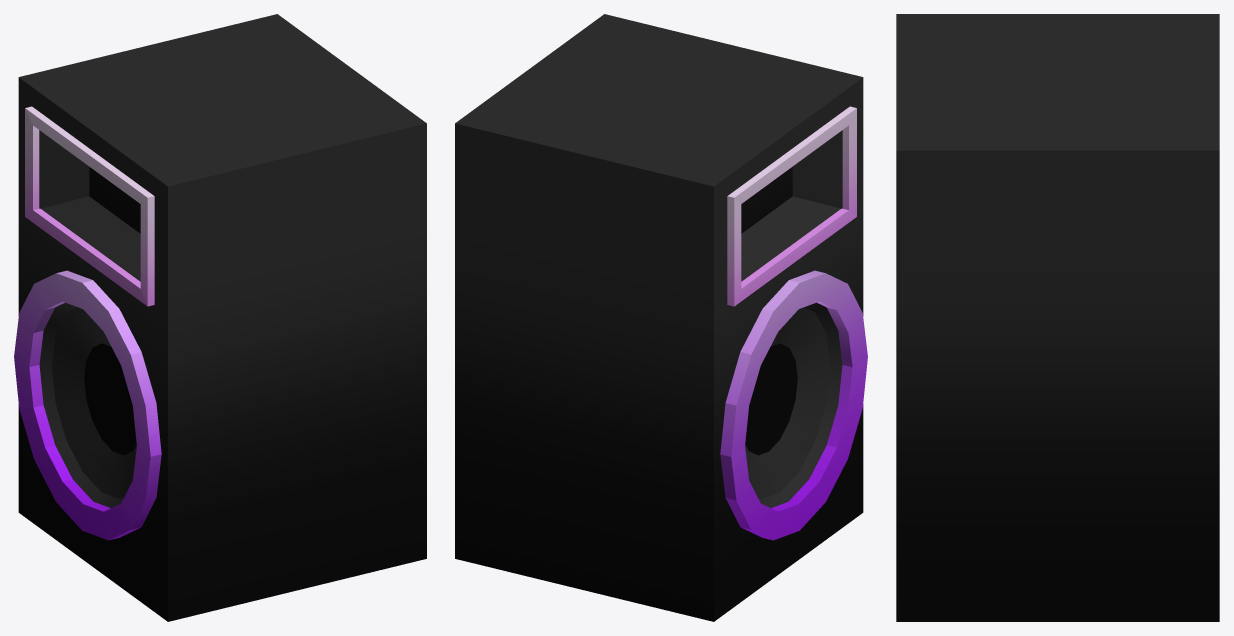
File: clubvoid2024speaker01.fbx
3 renders of one model, left to right at view 1: azimuth 30°, elevation 25°; view 2: azimuth 150°, elevation 25°; view 3: azimuth 270°, elevation 25°, orthographic. The views are drawn at different scales.
Visible parts, largest first — view 1: Cube.104, Cube.105, Cube.106; view 2: Cube.104, Cube.105, Cube.106; view 3: Cube.104.
Part boxes in pixels (x1=…): Cube.104: x1=18, y1=14, x2=426, y2=621; Cube.105: x1=14, y1=270, x2=161, y2=540; Cube.106: x1=25, y1=106, x2=154, y2=306; Cube.104: x1=455, y1=14, x2=863, y2=621; Cube.105: x1=720, y1=270, x2=867, y2=540; Cube.106: x1=727, y1=106, x2=856, y2=306; Cube.104: x1=896, y1=14, x2=1219, y2=621.
Size of the model in its own units: 106 by 163 by 102.
